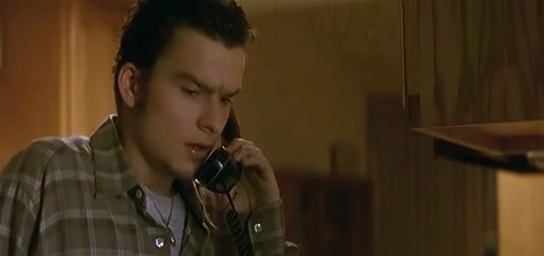cu: (1, 1, 544, 256)
face: (145, 47, 245, 183)
person: (1, 1, 289, 256)
